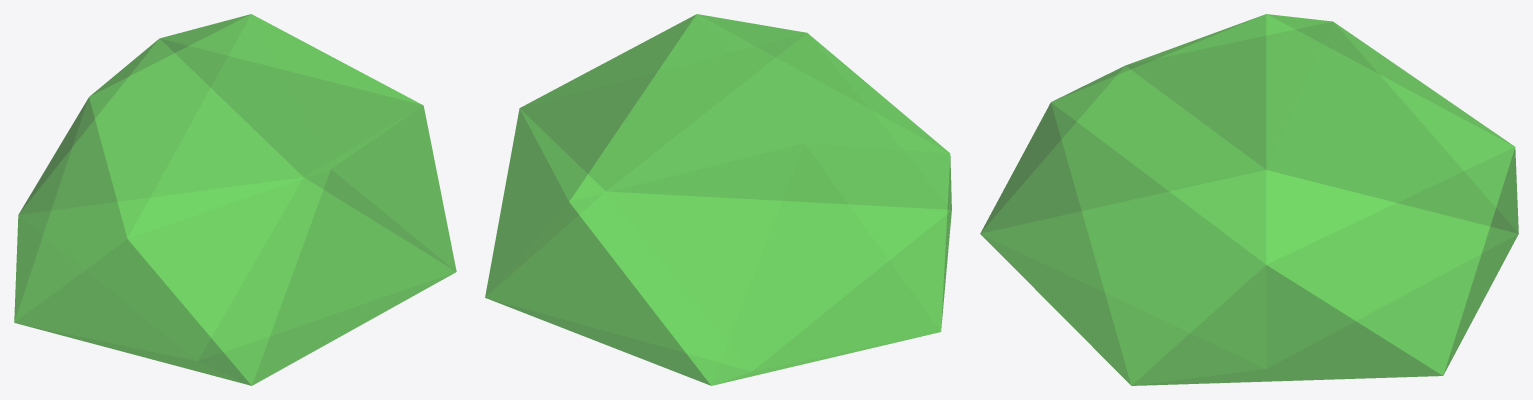
Rendered from Crsytal_7.fbx.
3 views of the same model, side by side, from view 1: azimuth 30°, elevation 25°; view 2: azimuth 150°, elevation 25°; view 3: azimuth 270°, elevation 25° (orthographic). The views are drawn at different scales.
Visible parts, largest first — view 1: Cube; view 2: Cube; view 3: Cube.
Part boxes in pixels (x1,y1,x2,y2): Cube: (14,14,456,385); Cube: (485,14,951,385); Cube: (980,14,1518,385).
Size of the model in its own units: 59.8 by 46.64 by 59.09.
